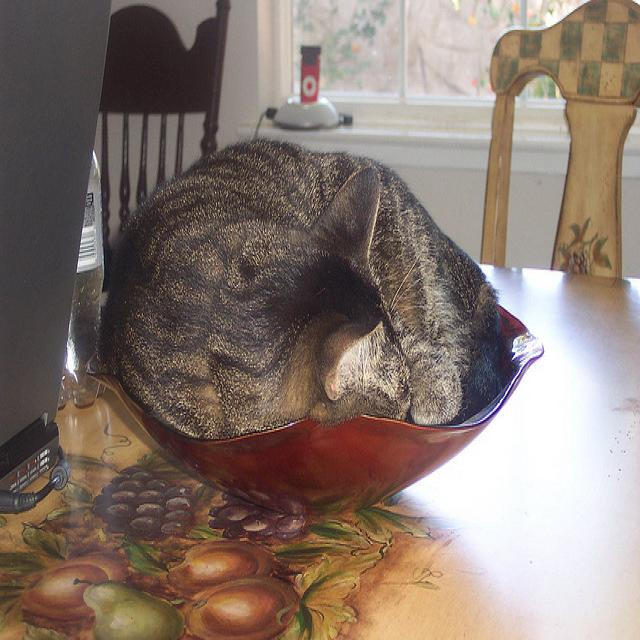chair: (96, 0, 228, 363), (480, 1, 639, 278)
dining table: (1, 262, 640, 633)
